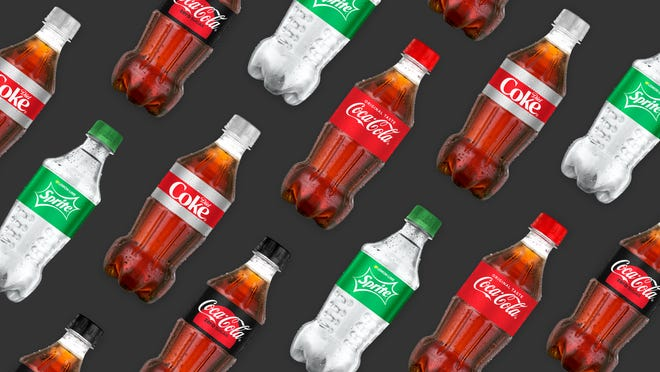plastic_bottle: (235, 33, 489, 279), (1, 118, 225, 322), (413, 1, 621, 217), (252, 168, 462, 372), (396, 163, 593, 372), (210, 1, 492, 136), (105, 230, 311, 372), (528, 169, 660, 368), (91, 1, 267, 121), (1, 1, 93, 211), (89, 125, 143, 333), (9, 302, 142, 372), (117, 229, 157, 231)
